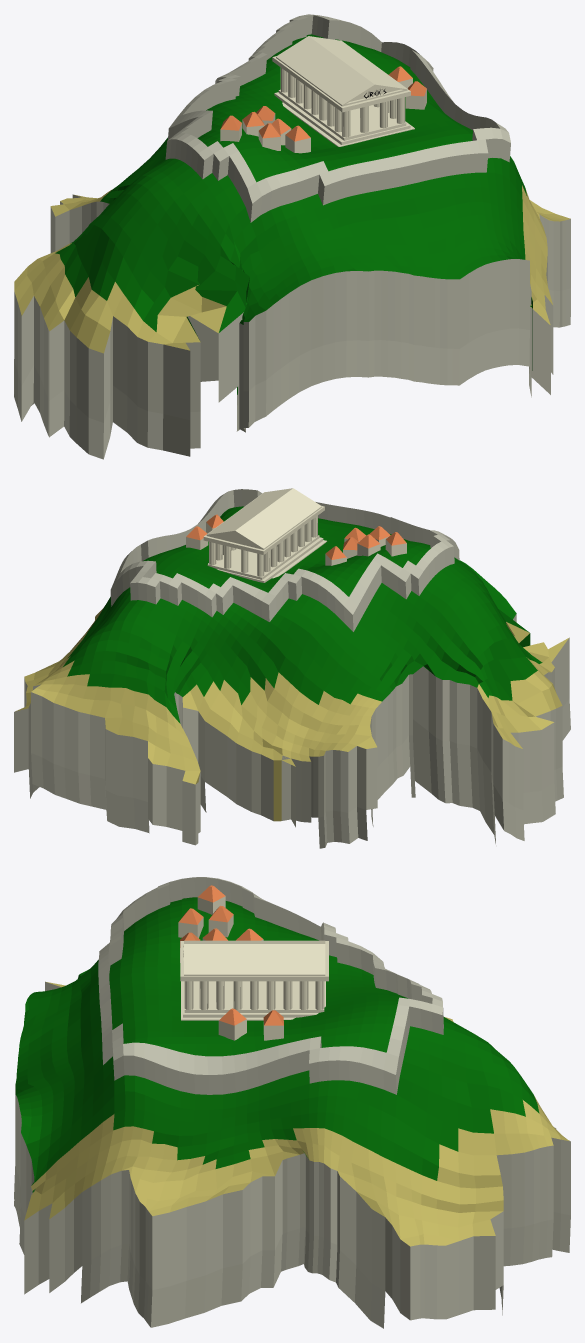
Rendered from ile_greks_2.glb.
3 renders of one model, top to bottom at view 1: azimuth 30°, elevation 25°; view 2: azimuth 150°, elevation 25°; view 3: azimuth 270°, elevation 25°, orthographic. The views are drawn at different scales.
Visible parts, largest first — view 1: Plan, Curve, Cube; view 2: Plan, Curve; view 3: Plan, Curve, Cube.006, Cube.004, Cube.002, Cube.007.
Boxes of the visible parts, x1,y1,x2,y2 form: Plan: (14,14,570,459); Curve: (272,36,414,146); Cube: (285,125,310,153); Plan: (14,489,570,848); Curve: (203,488,326,582); Plan: (14,877,570,1328); Curve: (180,940,328,1020); Cube.006: (218,1008,246,1040); Cube.004: (197,885,225,914); Cube.002: (178,908,203,937); Cube.007: (263,1010,283,1040).
Bounding box in the file's own units: 1.69 × 0.9317 × 1.49.
